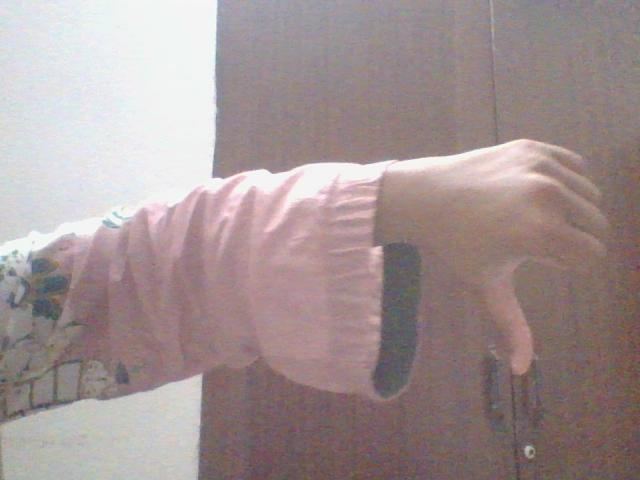thumbs-down: (436, 134, 610, 389)
